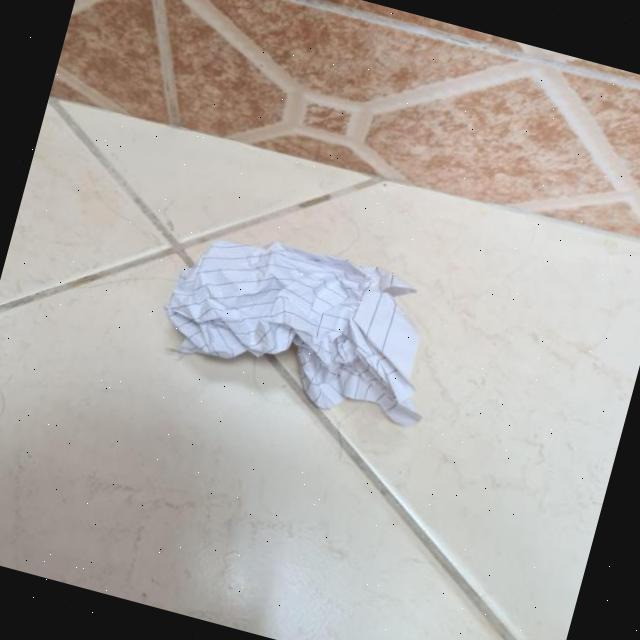trash: (160, 218, 442, 431)
